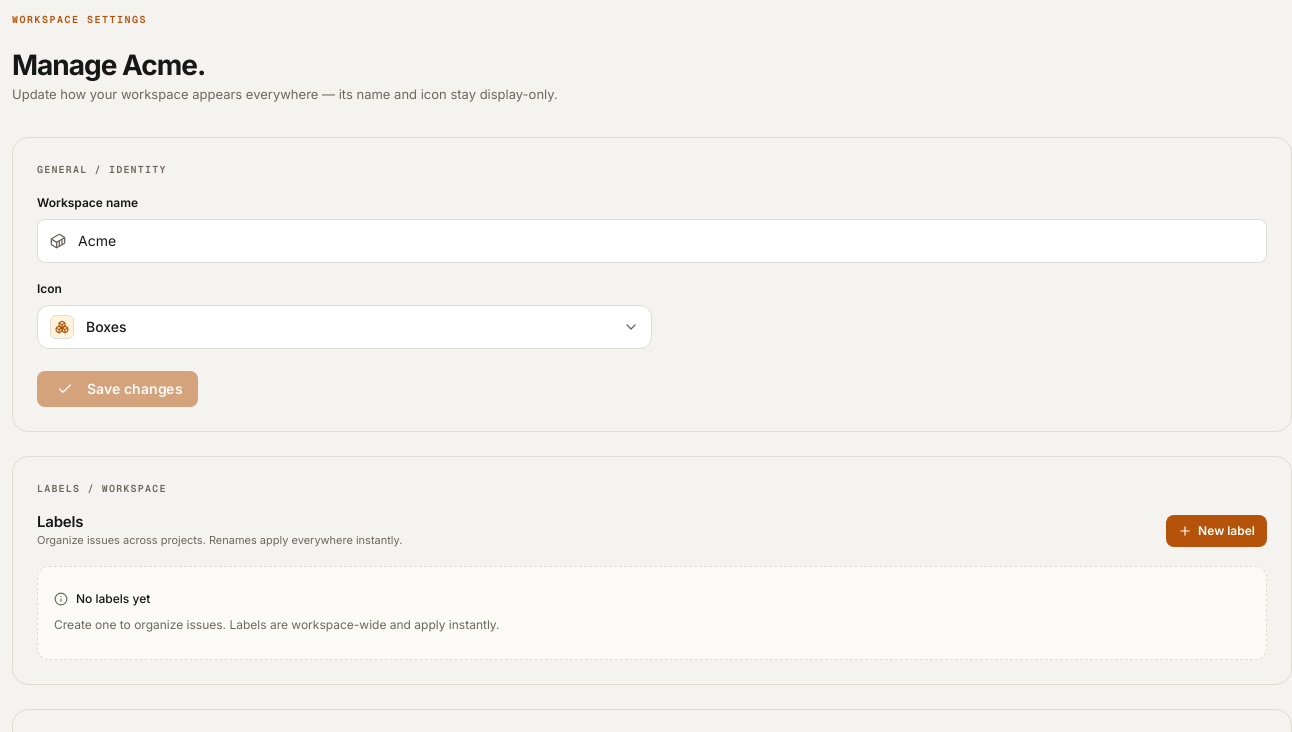
Test case: SettingsForm — lifecycle journeys › prefills name/icon, Save disabled until change and valid
The width and height of the screenshot is (1292, 732).
expect the button named "save changes" is disabled: met, box [37, 370, 198, 406]
Replace the text in the field labelled "Workspace name" with "Sable". click: coordinates (652, 240)
box: [38, 220, 1266, 262]
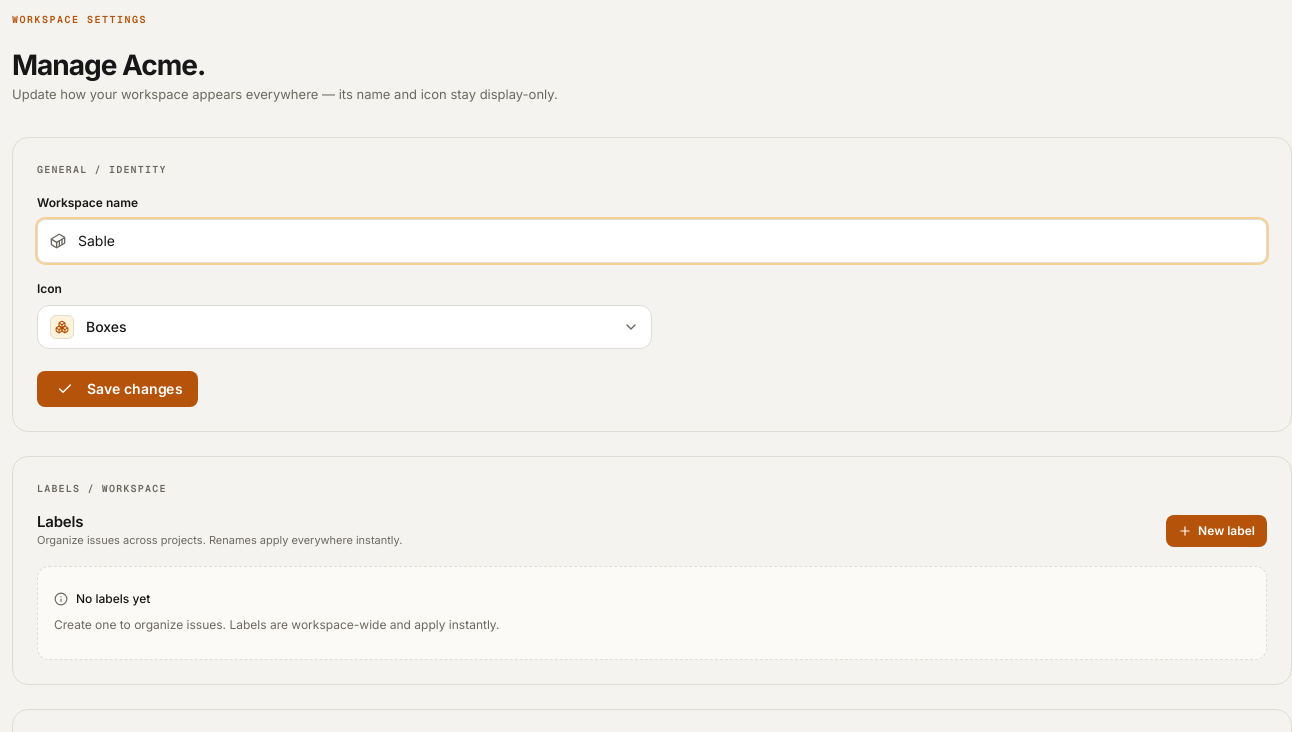
expect the button named "save changes" is enabled: met, box [37, 370, 198, 406]
